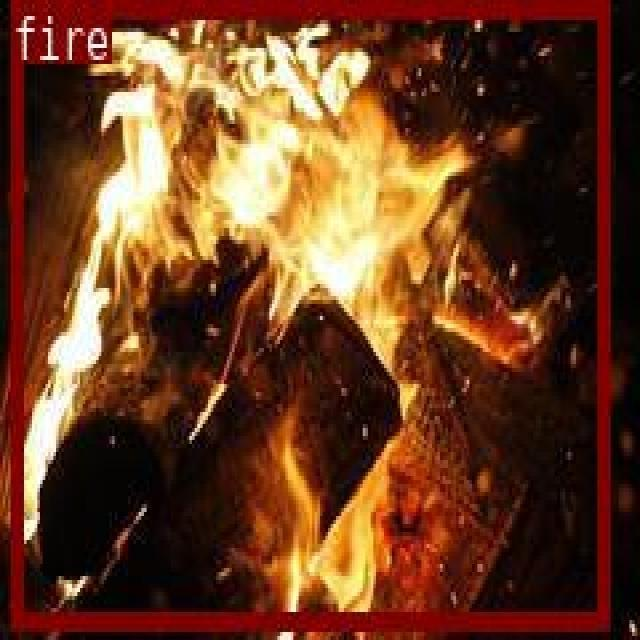fire: (11, 0, 608, 628)
